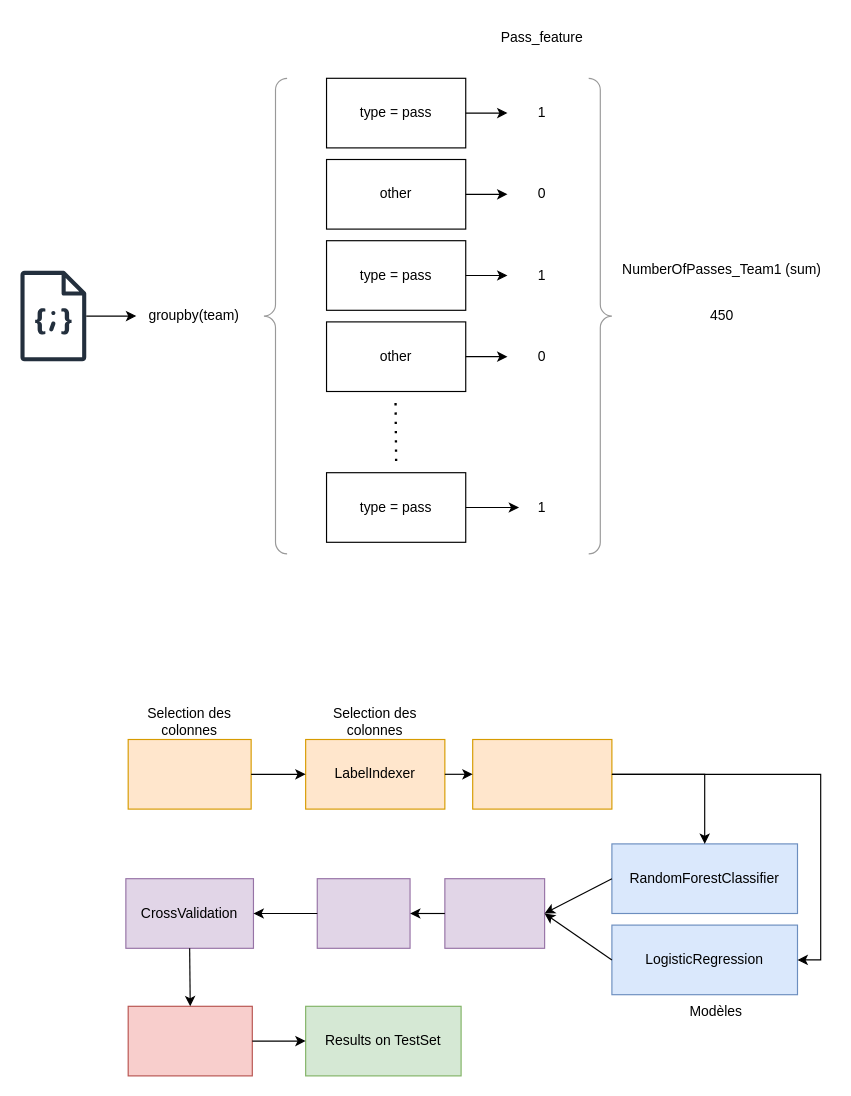
Some shapes in this 851 by 1096 pixel diagram are drawn without their labels. The centre of each missing label's shape, as x and y in pixels:
"Evaluator" goes at (x=363, y=913).
"Fit" goes at (x=189, y=1040).
"ParamGrid" goes at (x=494, y=913).
"TrainTestSplit" goes at (x=542, y=773).
"VectorAssembler()" goes at (x=189, y=773).
